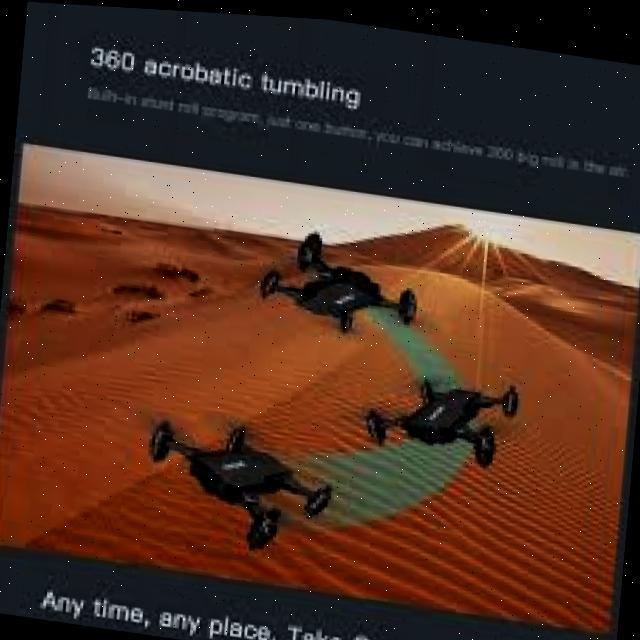drone: (122, 382, 358, 556), (240, 210, 427, 358), (337, 344, 538, 474)
